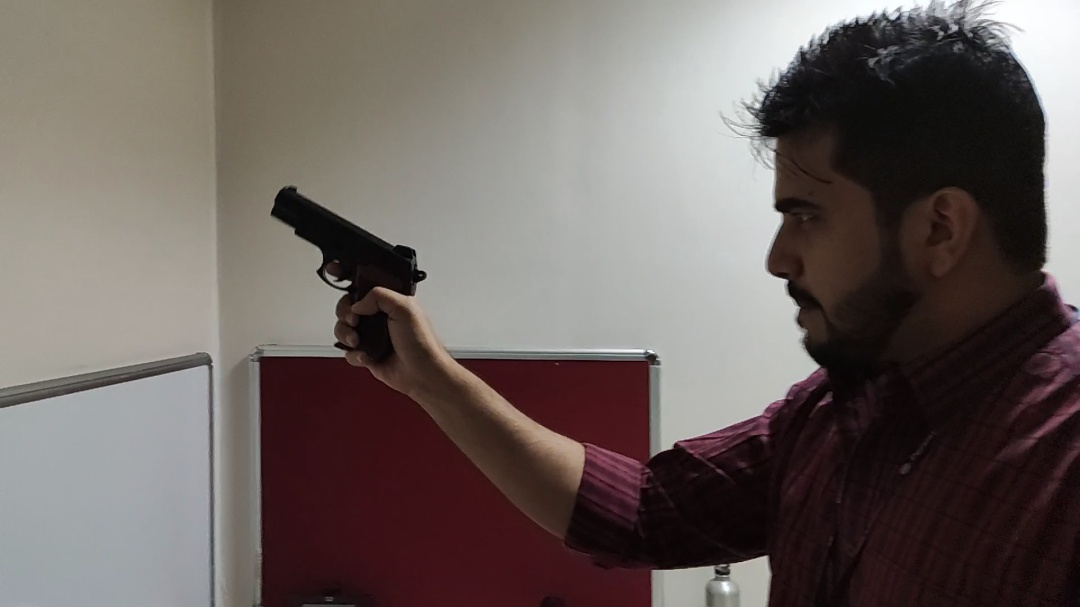gun: (269, 187, 429, 364)
